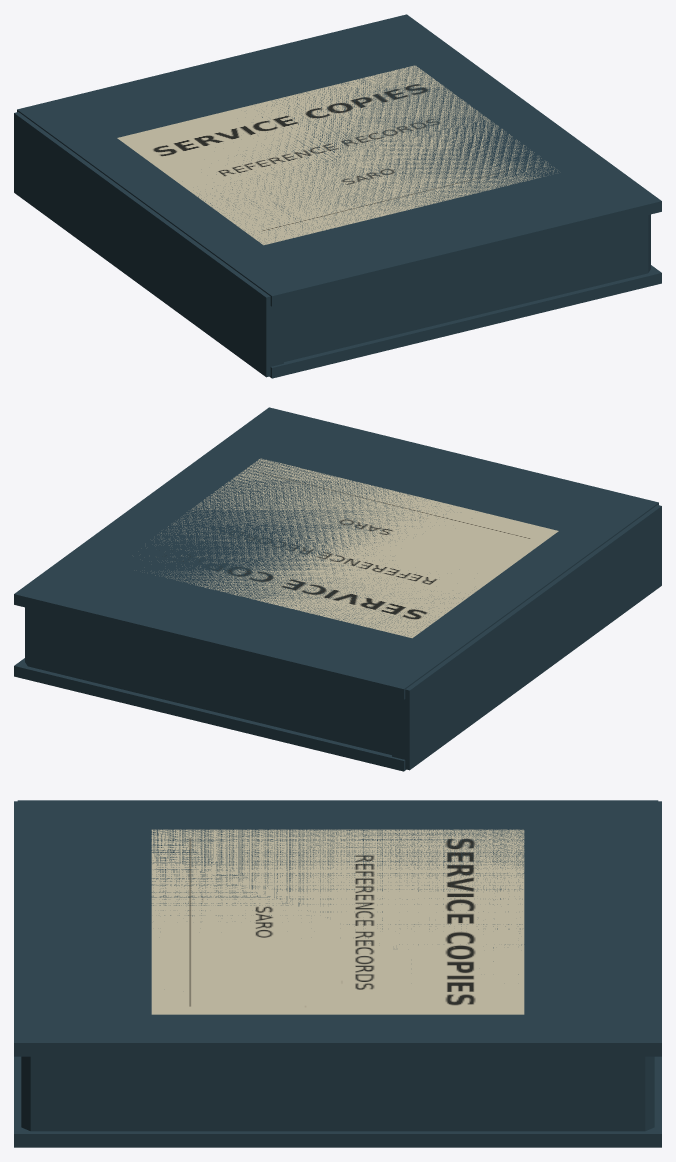
File: SM_ArchiveProps_ServiceBinder_LOD2.glb
3 renders of one model, top to bottom at view 1: azimuth 30°, elevation 25°; view 2: azimuth 150°, elevation 25°; view 3: azimuth 270°, elevation 25°, orthographic. The views are drawn at different scales.
Parts seen in each view (by area): view 1: SM_ArchiveProps_ServiceBinder_LOD2; view 2: SM_ArchiveProps_ServiceBinder_LOD2; view 3: SM_ArchiveProps_ServiceBinder_LOD2.
Part boxes in pixels (x1,y1,x2,y2): SM_ArchiveProps_ServiceBinder_LOD2: (14, 14, 661, 378); SM_ArchiveProps_ServiceBinder_LOD2: (14, 407, 661, 771); SM_ArchiveProps_ServiceBinder_LOD2: (14, 800, 661, 1147).
Size of the model in its own units: 0.3105 by 0.062 by 0.348.
Materials: 3 (1 with a texture image).
